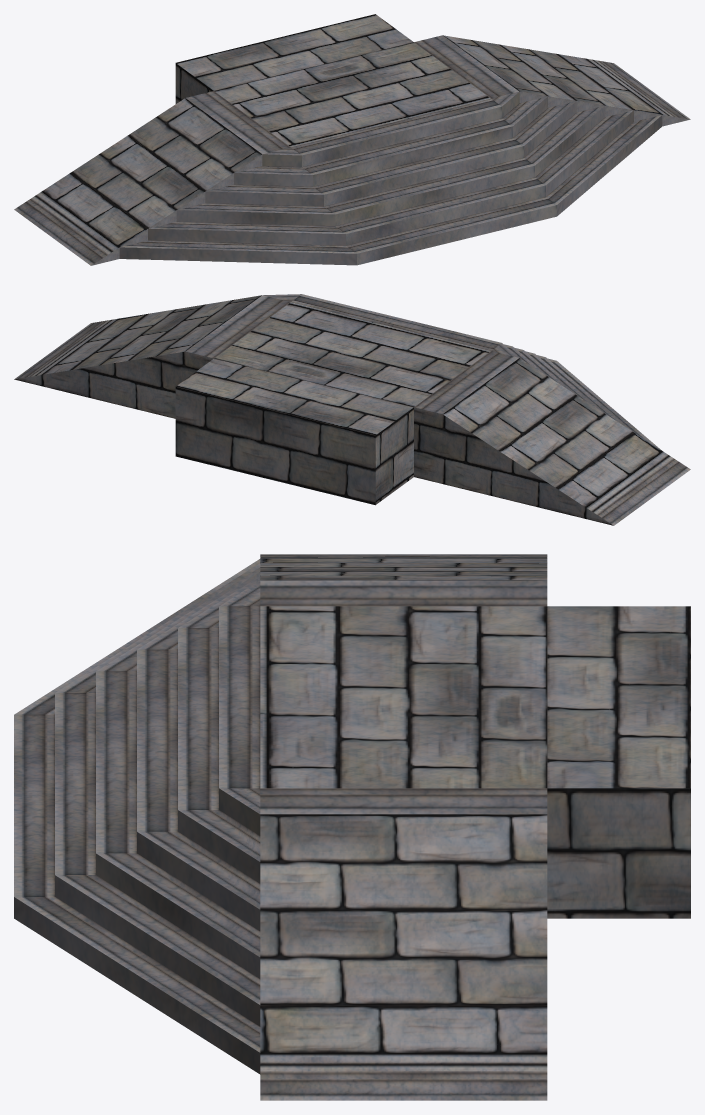
File: sanctum_stairs_01.glb
3 views of the same model, one above another, from view 1: azimuth 30°, elevation 25°; view 2: azimuth 150°, elevation 25°; view 3: azimuth 270°, elevation 25° (orthographic). The views are drawn at different scales.
Parts seen in each view (by area): view 1: sanctum_stairs_01; view 2: sanctum_stairs_01; view 3: sanctum_stairs_01.
Boxes of the visible parts, x1=… form: sanctum_stairs_01: x1=14, y1=14, x2=690, y2=265; sanctum_stairs_01: x1=14, y1=294, x2=690, y2=525; sanctum_stairs_01: x1=14, y1=554, x2=690, y2=1100.
Size of the model in its own units: 18 by 2 by 9.43.
Materials: 1 (1 with a texture image).
